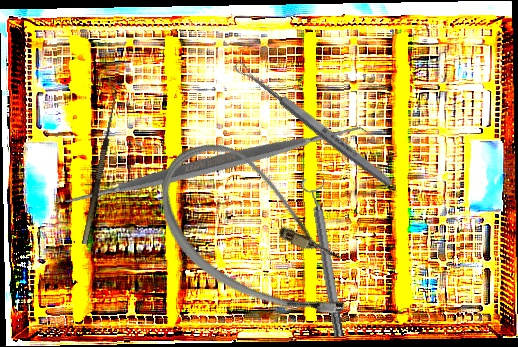Cannula: (131, 124, 387, 343)
Fixation Ring: (299, 175, 352, 340)
Hook Surgical: (73, 88, 121, 245)
Spatula Surgical: (49, 0, 379, 330)
Surgical Spoon: (232, 58, 395, 190)
